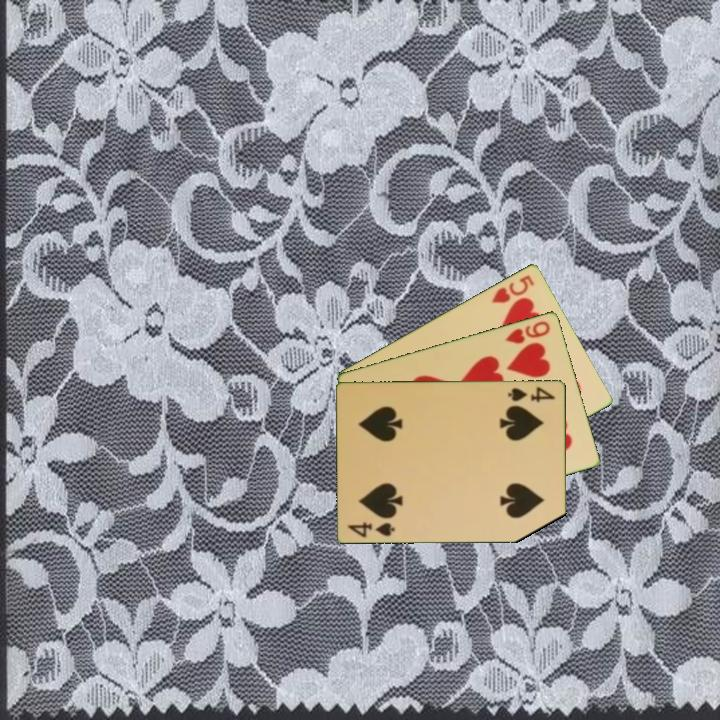4s: (344, 518, 398, 540), (505, 383, 558, 405)
5h: (488, 271, 537, 306)
9h: (502, 317, 553, 346)
